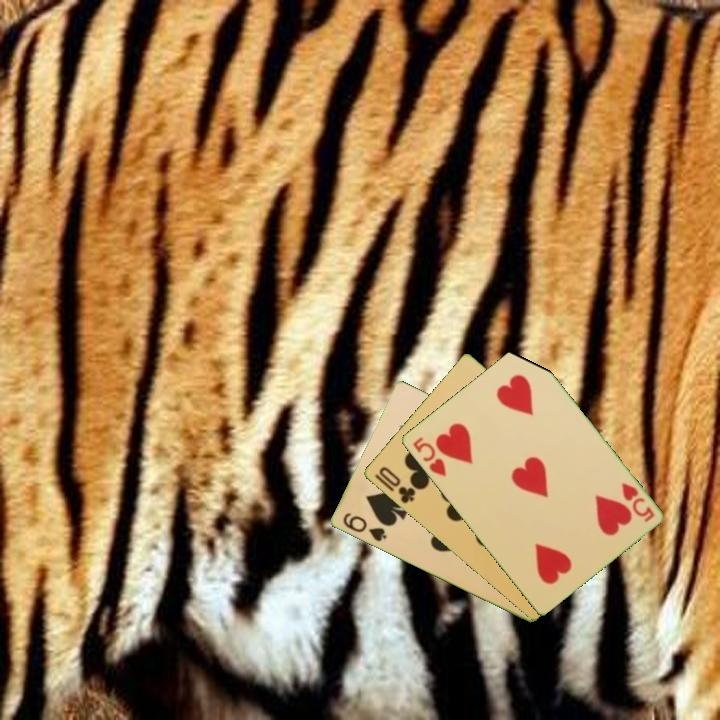10c: (375, 463, 418, 507)
5h: (409, 433, 449, 479), (617, 479, 657, 525)
6s: (339, 509, 389, 545)
